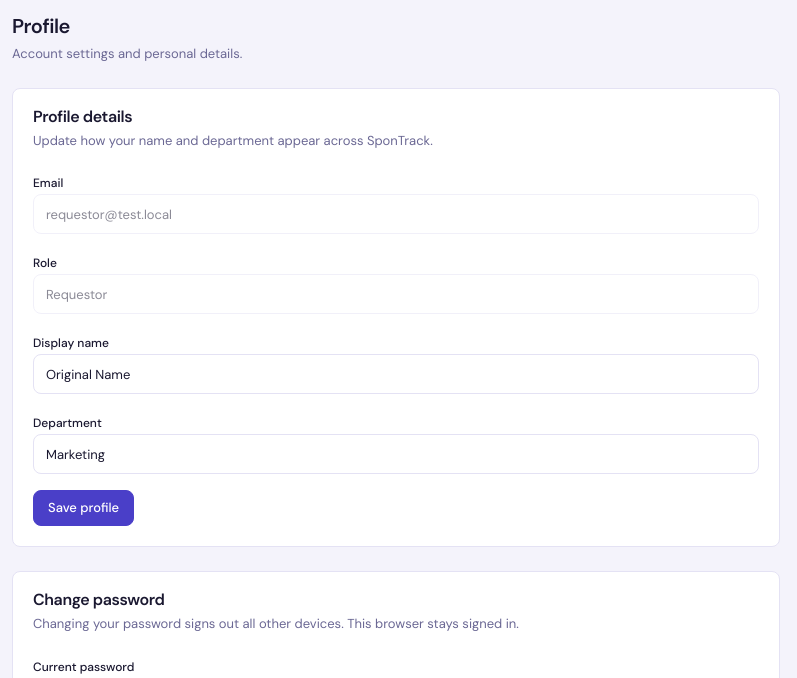
Test: ProfilePage › shows validation errors when profile display name is cleared
This screenshot has width=797, height=678.
Clear the field labelled "Display name" at (396, 374), box x1=33 y1=354 x2=759 y2=394
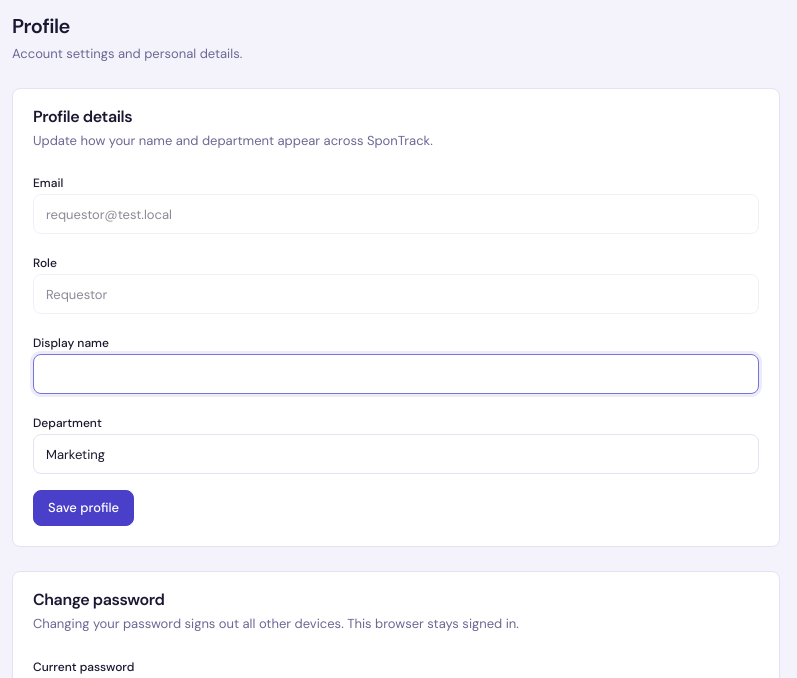
Click the button "Save profile" at (84, 508), box x1=33 y1=490 x2=134 y2=526
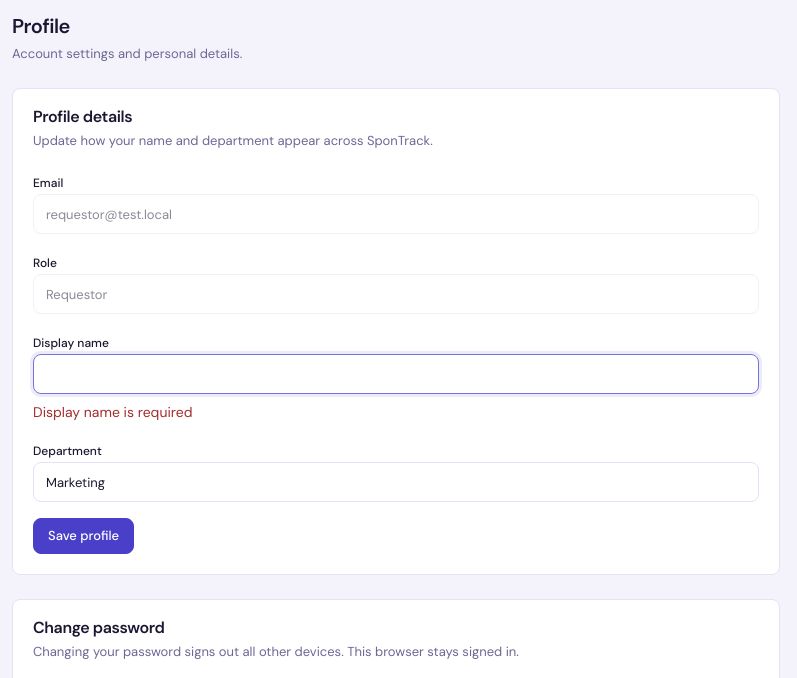
Expected: the text "Display name is required" is shown, x1=33 y1=403 x2=192 y2=421
